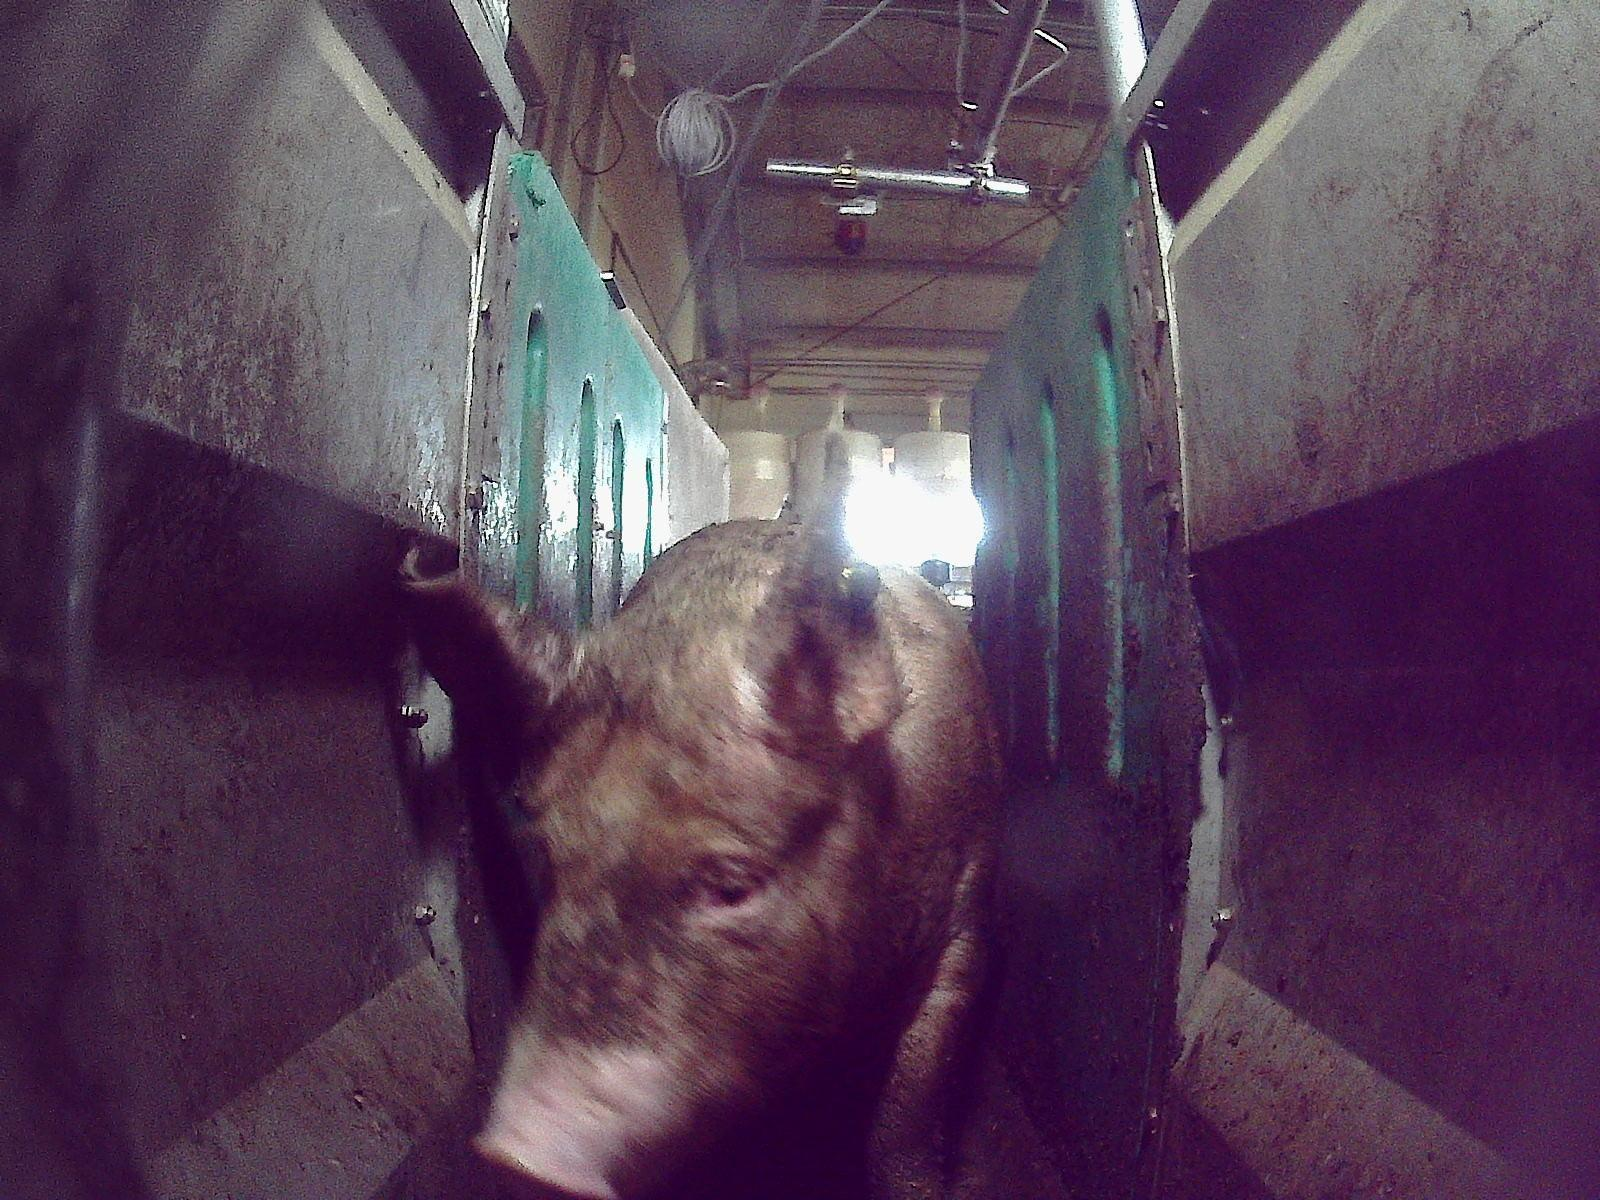Face: (470, 685, 869, 1199)
